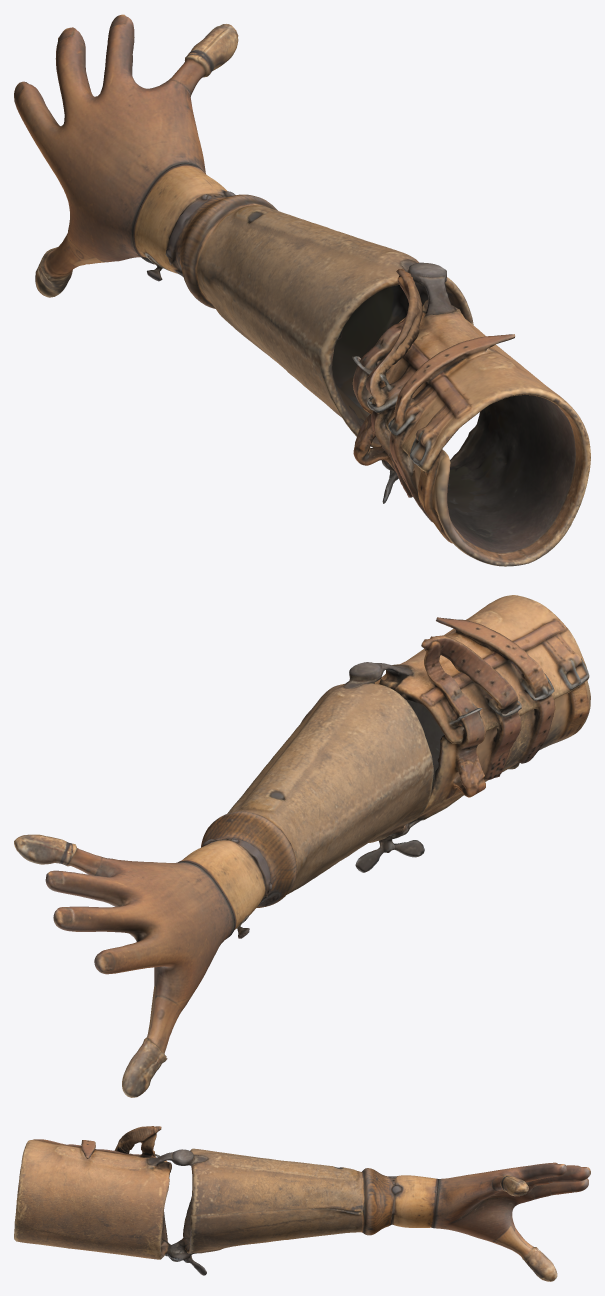
Rendered from artificial_arm.glb.
3 views of the same model, one above another, from view 1: azimuth 30°, elevation 25°; view 2: azimuth 150°, elevation 25°; view 3: azimuth 270°, elevation 25° (orthographic). The views are drawn at different scales.
Parts seen in each view (by area): view 1: Object_2, Object_4; view 2: Object_2, Object_4; view 3: Object_2, Object_4.
Part boxes in pixels (x1,y1,x2,y2): Object_2: [14, 14, 590, 566]; Object_4: [197, 205, 473, 447]; Object_2: [14, 595, 590, 1097]; Object_4: [227, 679, 433, 894]; Object_2: [14, 1126, 590, 1281]; Object_4: [183, 1148, 362, 1254].
Bounding box in the file's own units: 0.1498 × 0.1635 × 0.5455.
2 materials, 2 textured.
